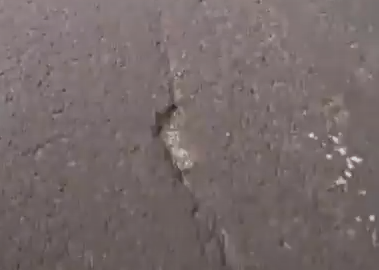Retak Memanjang: (143, 11, 246, 270)
